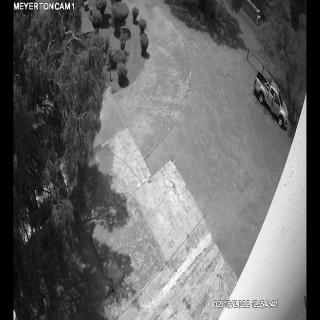car: (252, 71, 290, 129)
